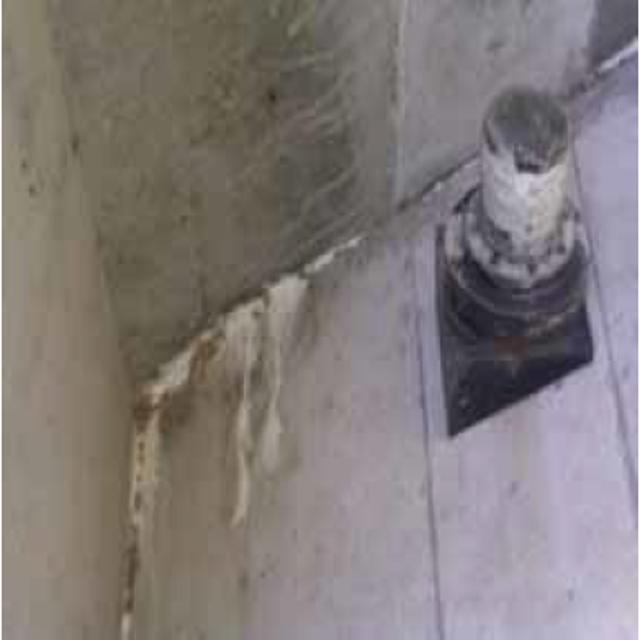freelime: (204, 264, 336, 499), (99, 314, 167, 610)
